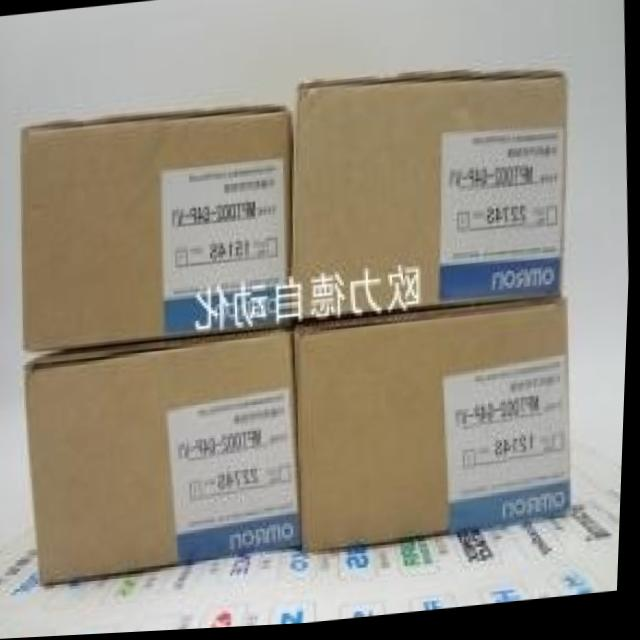box: (29, 329, 304, 587), (299, 301, 573, 557), (293, 80, 565, 329), (21, 109, 294, 354)
